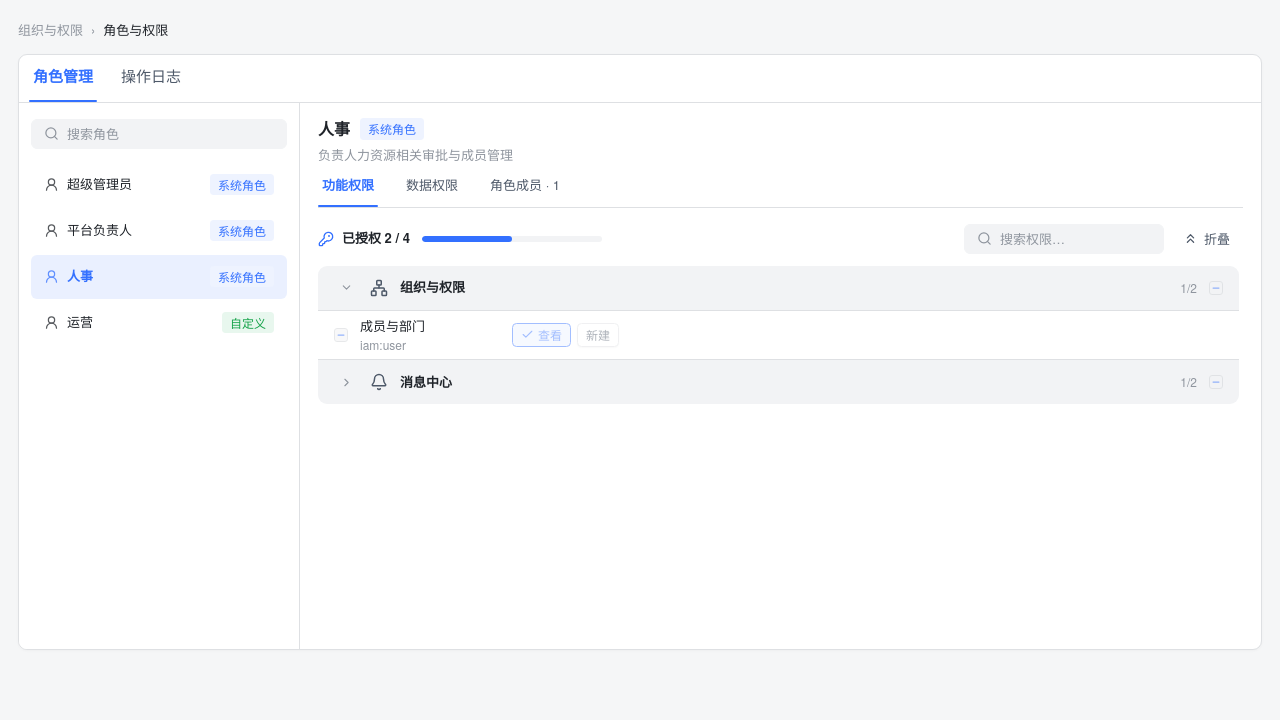
it: 操作日志使用表格汇总角色变更并支持关键词筛选
This screenshot has width=1280, height=720.
Click the tab "操作日志".
click(151, 83)  # box [117, 65, 185, 102]
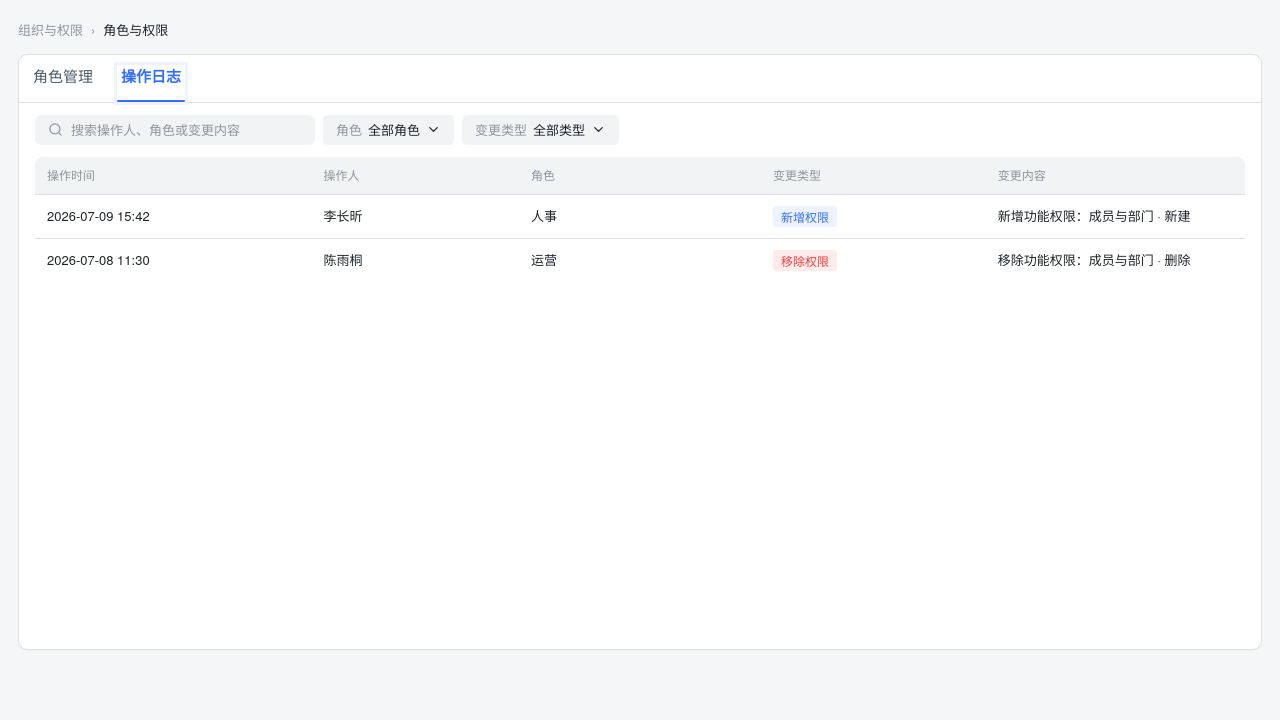
Expected: the column heading "操作时间" is shown, [35, 156, 312, 194]
Expected: the column heading "操作人" is shown, [312, 156, 519, 194]
Expected: the column heading "变更内容" is shown, [986, 156, 1245, 194]
Type "运营" into the search field named "搜索操作日志".
click(186, 130); type("运营")  # box [71, 120, 302, 139]
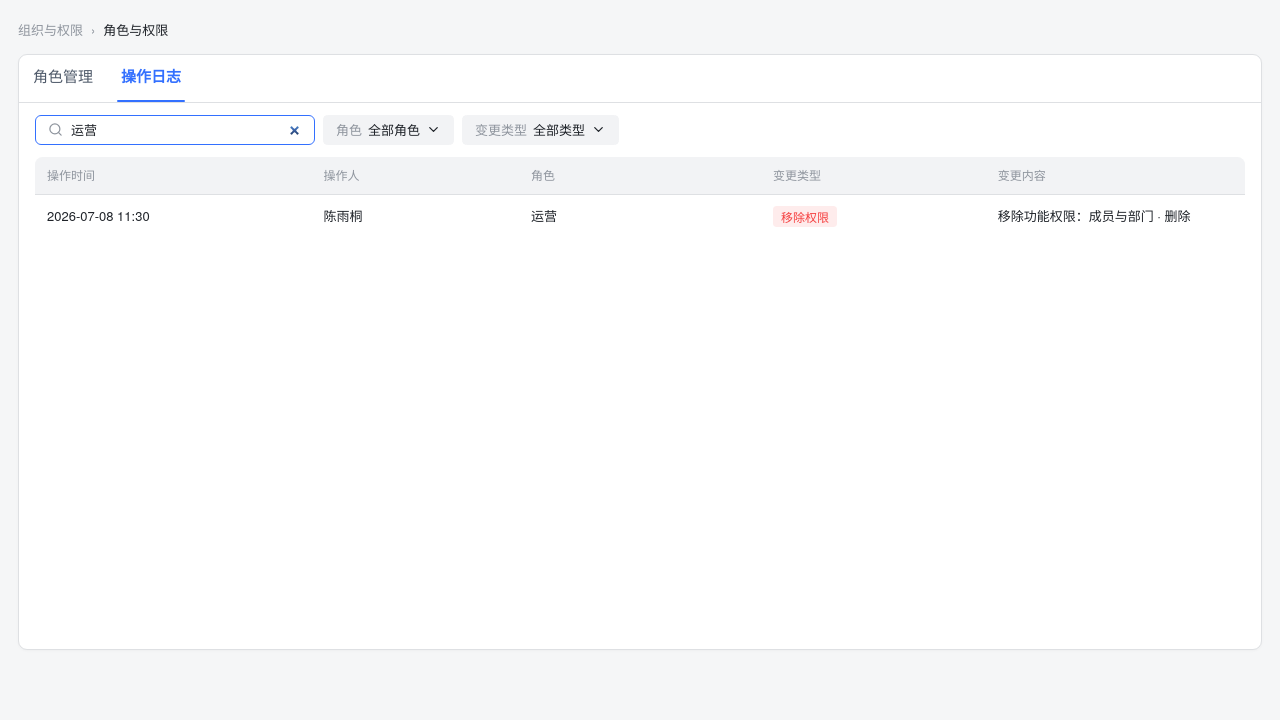
Expected: the text "移除功能权限：成员与部门 · 删除" is shown, [986, 194, 1245, 238]
Expected: the text "新增功能权限：成员与部门 · 新建" is gone
